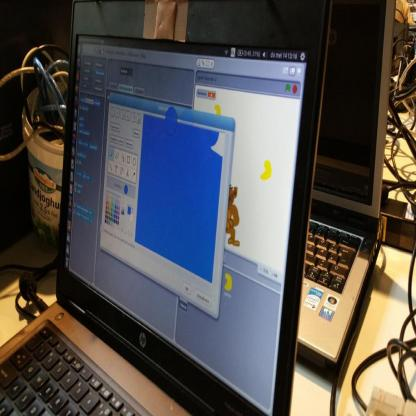board: (19, 34, 325, 416), (298, 1, 397, 364)
